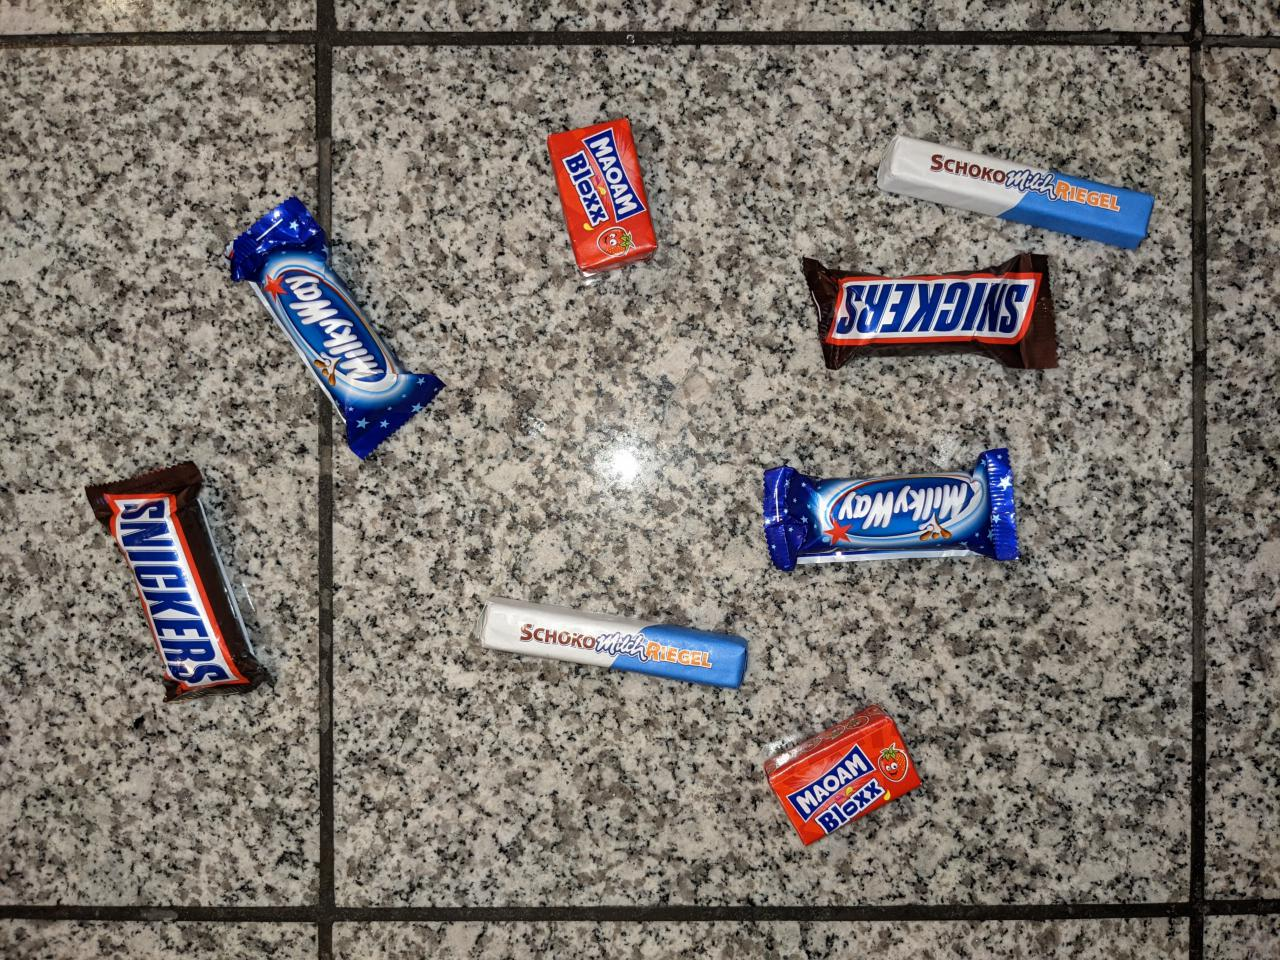MAOAM: (761, 699, 926, 849), (541, 113, 663, 285)
MilkyWay: (215, 192, 453, 468), (758, 446, 1024, 578)
Schokoriegel: (869, 129, 1159, 257), (472, 591, 754, 696)
Snickers: (82, 454, 281, 708), (792, 247, 1065, 377)
